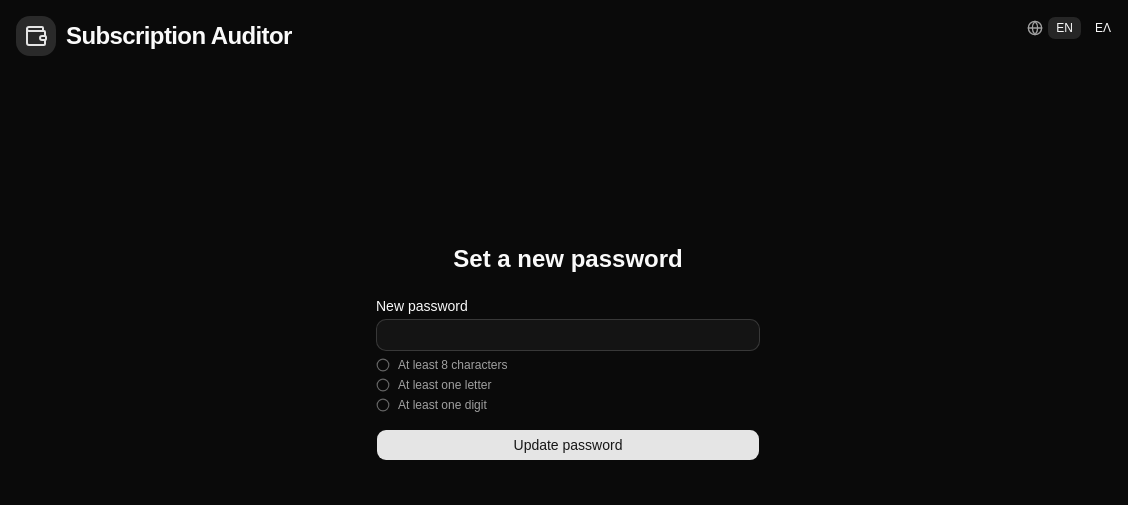
Test case: ResetPassword password policy › surfaces the server's own password rejection instead of the expired-link message
Type "correct1horse" into the password field labelled "New password" at (568, 335), box [376, 319, 760, 351]
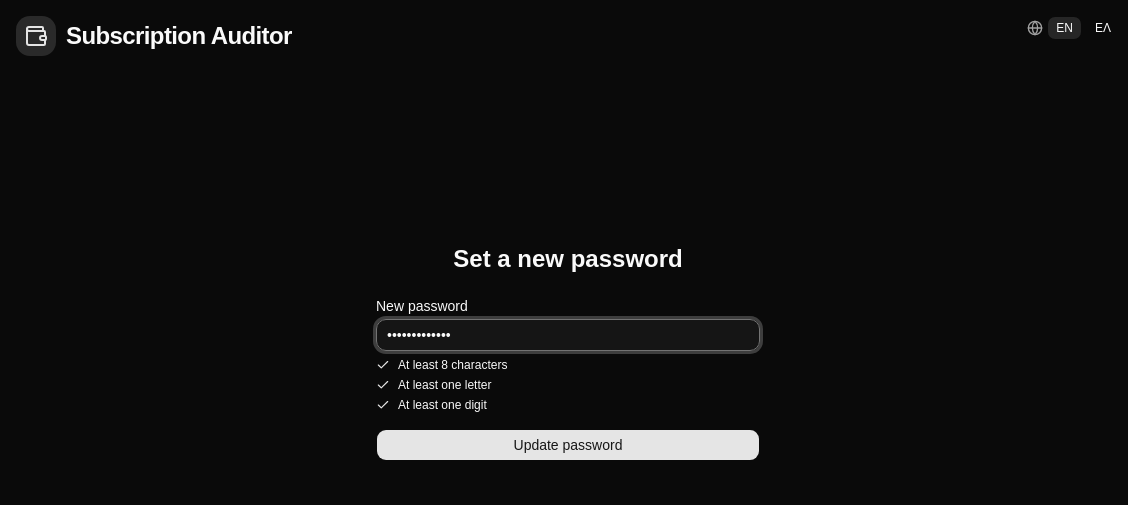
Click the button "Update password" at (568, 445), box [376, 429, 760, 461]
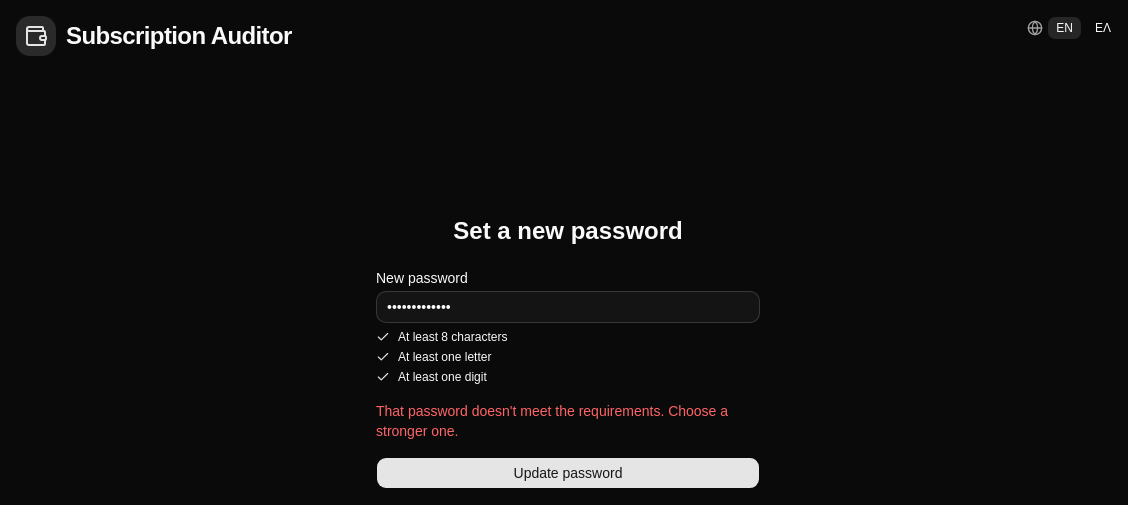
Check: the text "That password doesn't meet the requirements. Choose a stronger one." is shown, box [376, 401, 760, 441]
